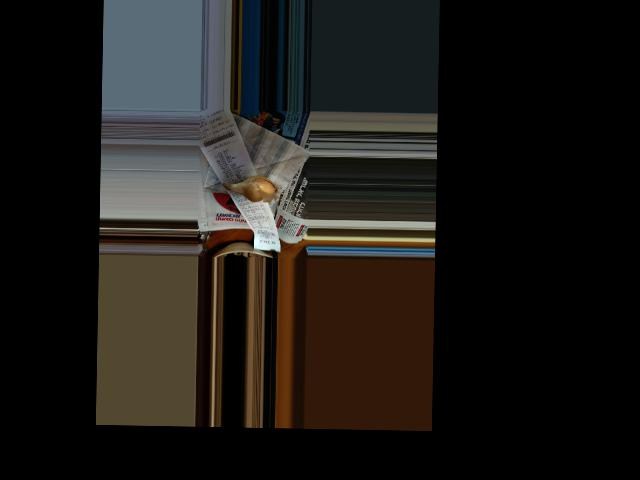onion: (237, 173, 274, 202)
